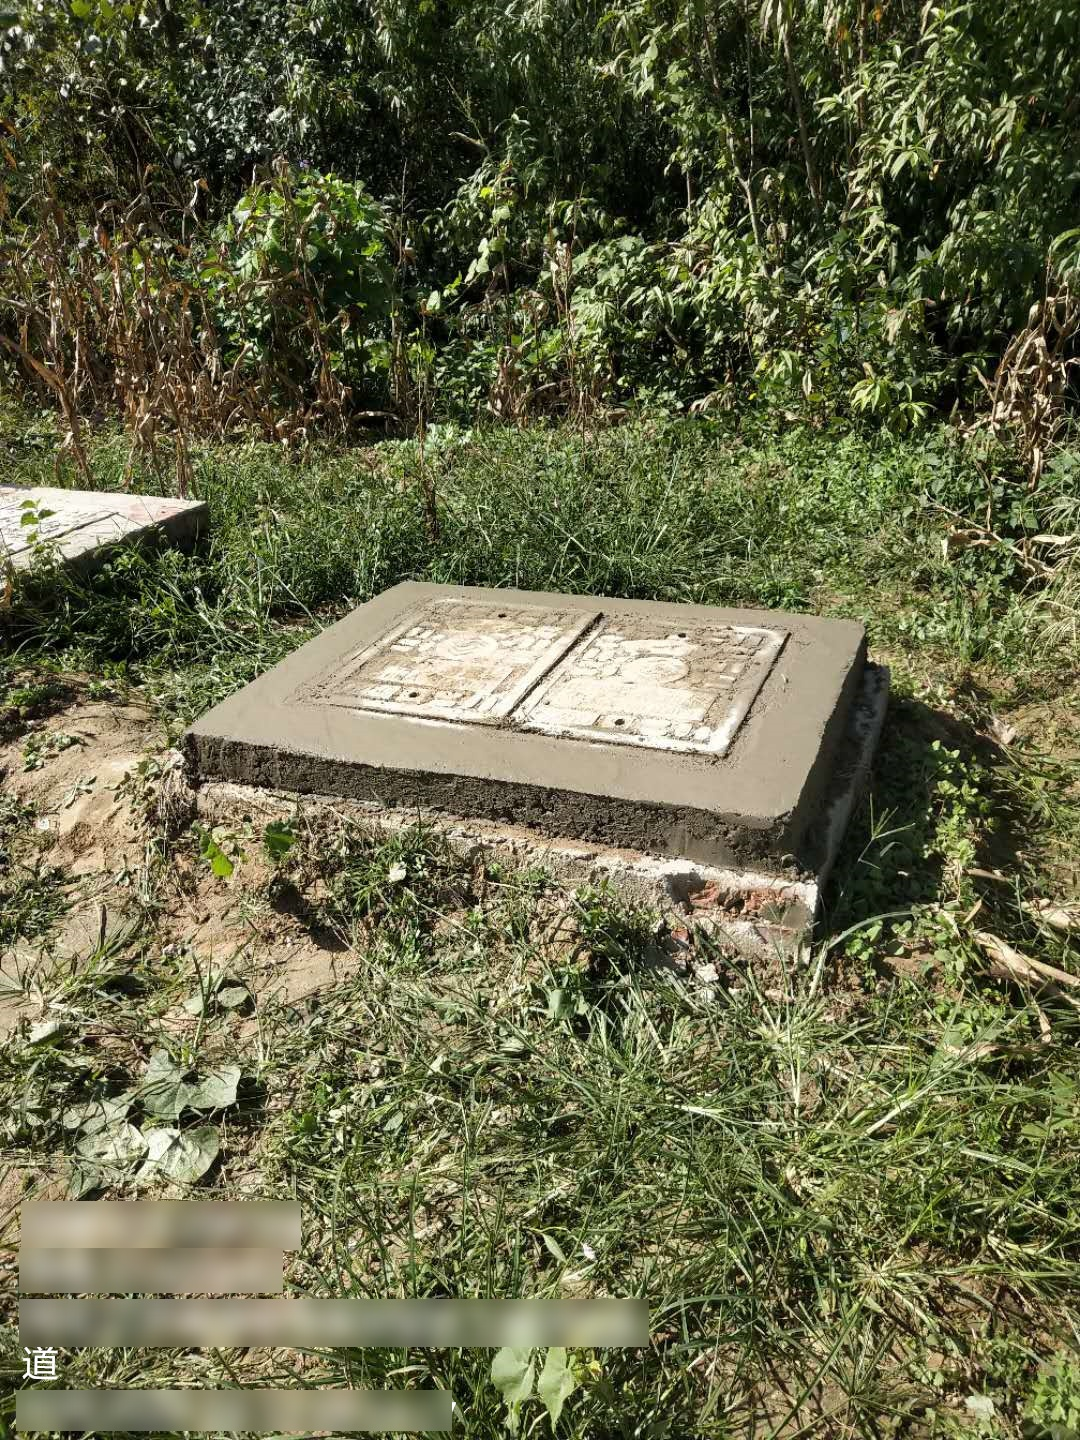well: (303, 590, 813, 773)
